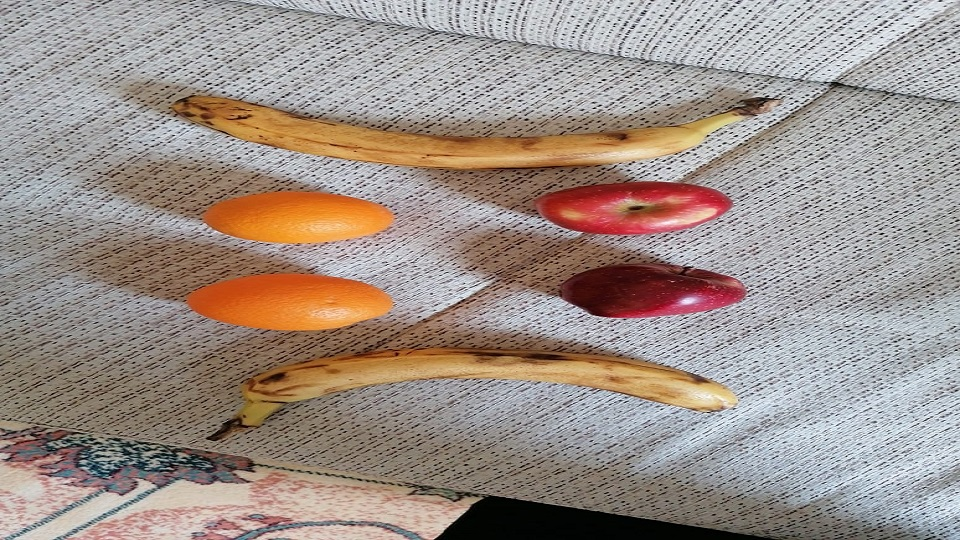elma: (535, 180, 736, 238), (558, 264, 747, 320)
muz: (171, 95, 767, 170), (237, 348, 738, 431)
portakal: (184, 275, 394, 333), (201, 190, 397, 245)
